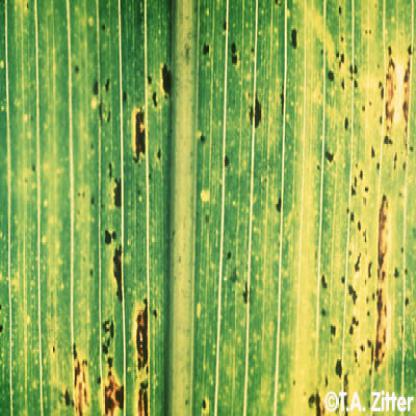Corn rust leaf: (1, 2, 415, 392)
